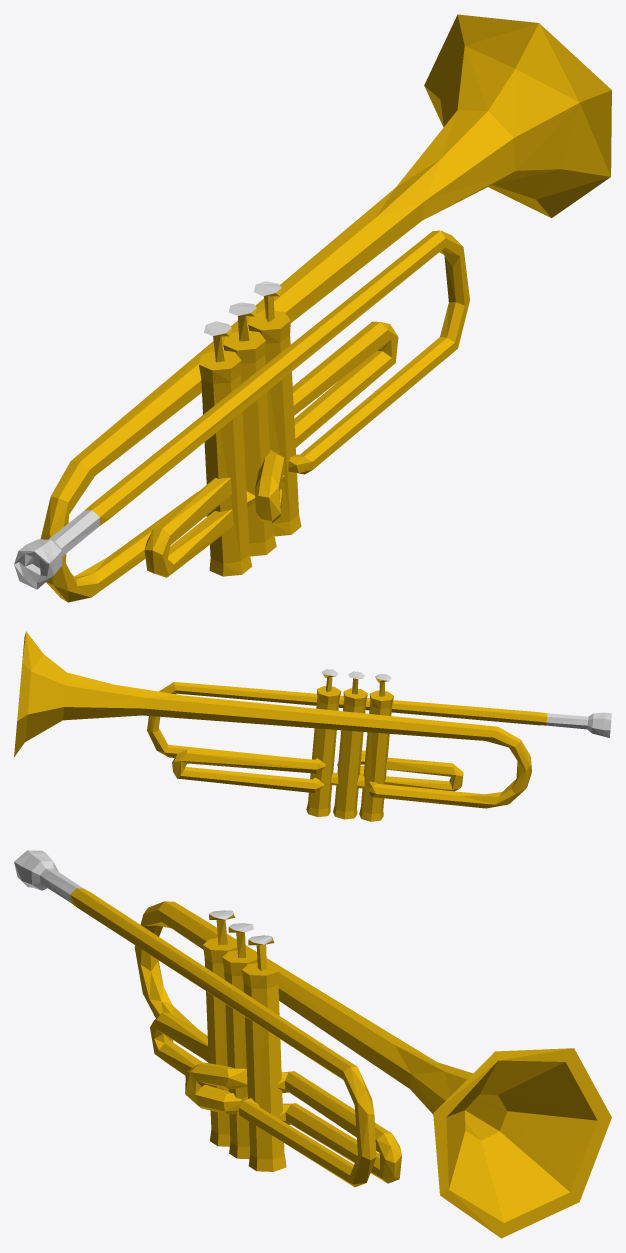
File: trumpet.fbx
3 views of the same model, one above another, from view 1: azimuth 30°, elevation 25°; view 2: azimuth 150°, elevation 25°; view 3: azimuth 270°, elevation 25° (orthographic). The views are drawn at different scales.
Visible parts, largest first — view 1: Cylinder.073; view 2: Cylinder.073; view 3: Cylinder.073.
Part boxes in pixels (x1,y1,x2,y2): Cylinder.073: (14, 14, 611, 602); Cylinder.073: (14, 631, 611, 821); Cylinder.073: (14, 850, 611, 1238).
Size of the model in its own units: 816 by 310 by 579.
